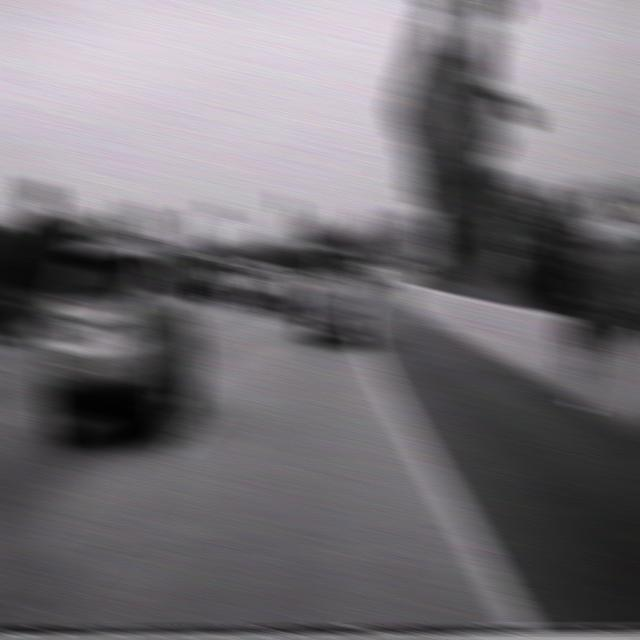speedLimit65: (409, 203, 440, 247)
